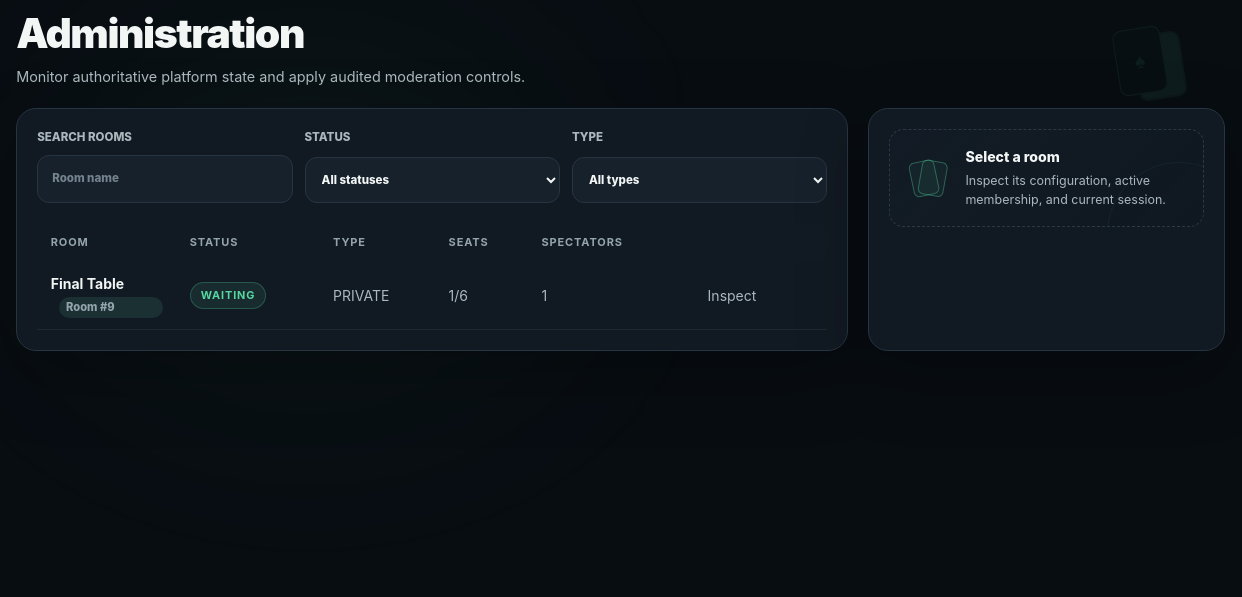
Scenario: AdminPage › exposes room detail, member removal, and close controls
Step 1. Click the button "Inspect" → x=732, y=295, box [692, 273, 772, 317]
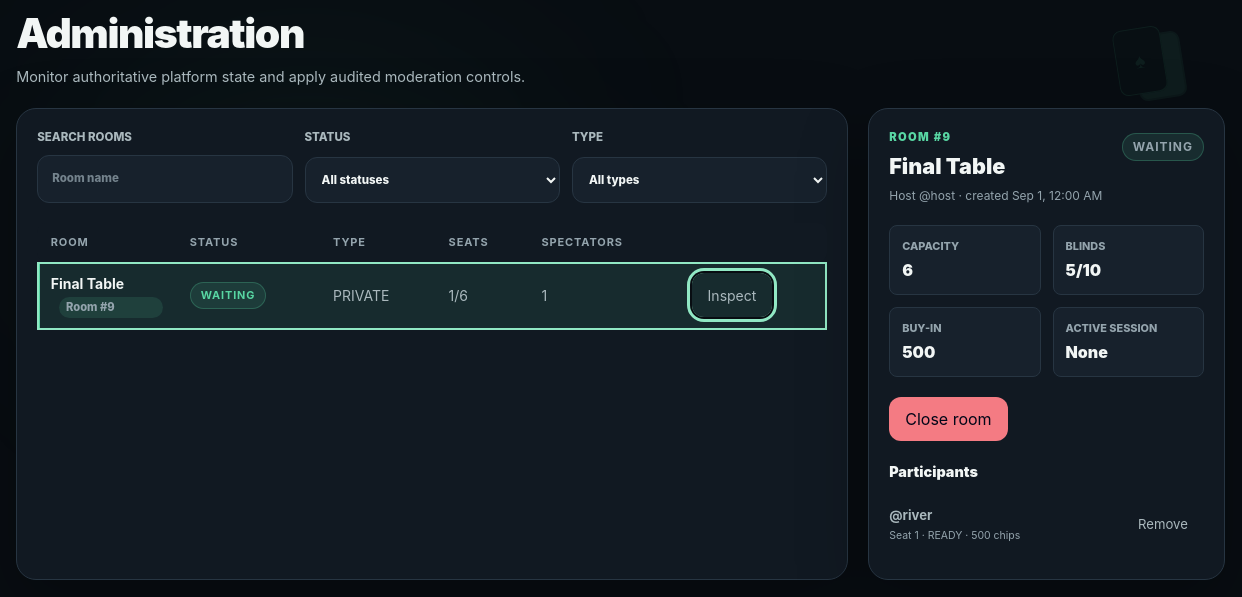
Check: the heading "Final Table" is shown, box [889, 153, 1005, 179]
Check: the button "Close room" is enabled, box [889, 397, 1008, 441]
Check: the button "Remove" is enabled, box [1122, 503, 1204, 547]
